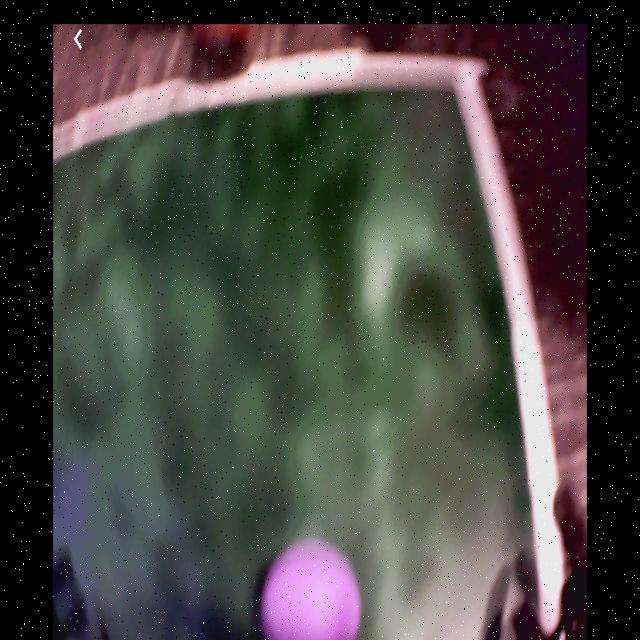ball: (263, 539, 364, 640)
